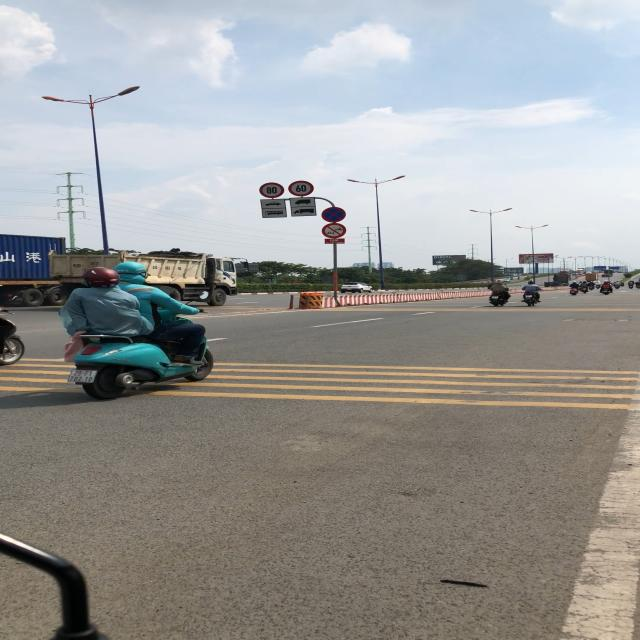Bien bao cam dung xe va do xe: (320, 206, 348, 222)
Bien bao toc do toi da cho phep: (288, 180, 316, 197), (256, 182, 284, 198)
